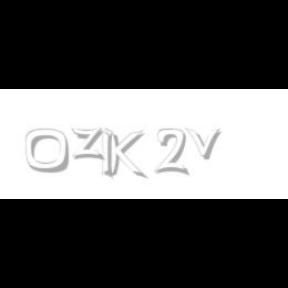2: (154, 128, 188, 176)
I: (101, 128, 114, 180)
K: (104, 128, 144, 180)
O: (25, 128, 70, 174)
v: (185, 128, 225, 160)
z: (71, 128, 107, 160)
